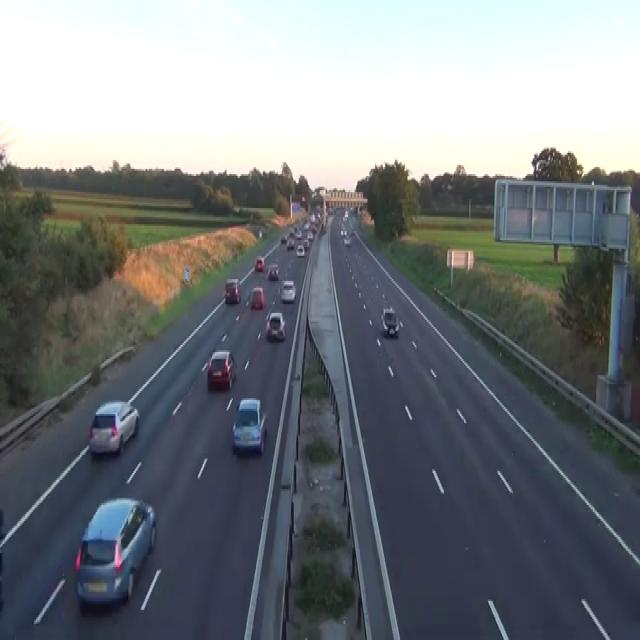Car: (74, 496, 156, 606), (87, 400, 139, 455), (231, 397, 267, 455), (206, 350, 236, 390), (265, 311, 285, 340), (380, 306, 399, 336), (0, 506, 5, 610), (225, 277, 241, 304), (280, 279, 296, 302), (251, 284, 264, 310), (266, 263, 279, 281), (254, 256, 265, 272), (296, 244, 304, 256), (286, 238, 294, 249), (343, 235, 351, 245), (302, 238, 309, 249), (320, 222, 326, 233), (309, 213, 315, 224), (350, 204, 357, 213), (280, 233, 286, 243), (300, 196, 306, 206), (303, 220, 309, 230), (295, 230, 302, 238), (233, 204, 239, 213), (328, 206, 334, 215), (307, 231, 313, 240), (340, 228, 346, 236), (258, 228, 262, 238), (344, 210, 348, 218), (301, 195, 305, 202)
